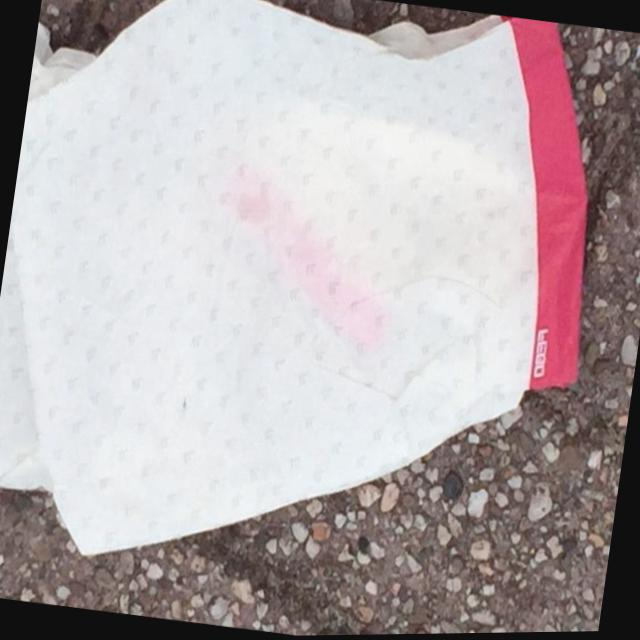Paper: (0, 0, 632, 627)
